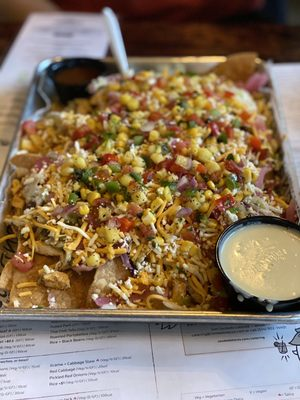sushi: (216, 216, 300, 311)
